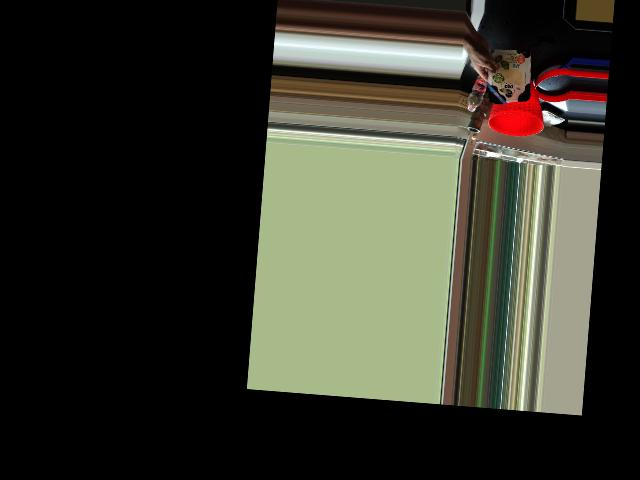cheese: (475, 51, 533, 107)
